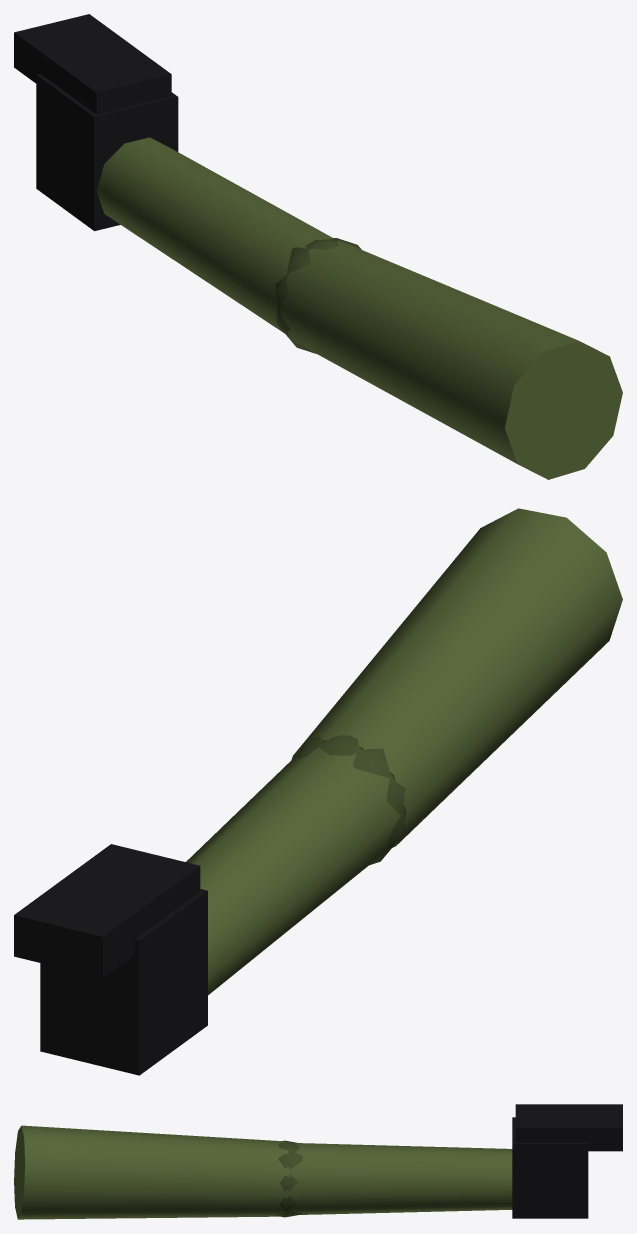
File: commando_leg_l.obj
The picture shows the model from 3 angles, top to bottom: view 1: azimuth 30°, elevation 25°; view 2: azimuth 150°, elevation 25°; view 3: azimuth 270°, elevation 25°; orthographic projection. The views are drawn at different scales.
Visible parts, largest first — view 1: leg; view 2: leg; view 3: leg.
Boxes of the visible parts, x1,y1,x2,y2 form: leg: [14, 14, 622, 479]; leg: [14, 508, 622, 1075]; leg: [14, 1104, 622, 1219].
Bounding box in the file's own units: 0.4063 × 0.3589 × 2.12.
